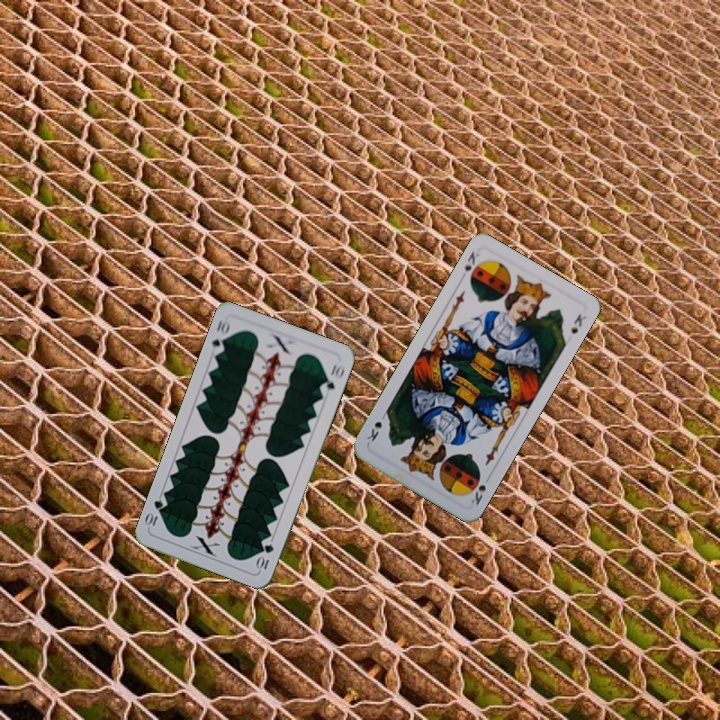G10: (207, 316, 232, 357), (253, 540, 276, 572)
SK: (460, 247, 484, 284), (467, 481, 489, 508)
